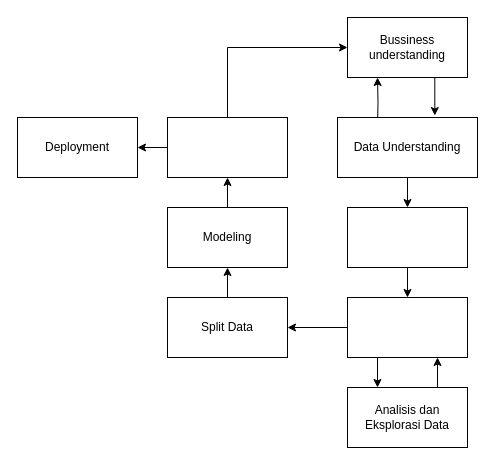
The diagram is 495 pixels wide and 465 high, and some of its shapes have lost their labels. Each missing label, with the centre of its shape:
Data Proccessing: (x=407, y=327)
Evaluasi: (x=227, y=147)
Fitur Selection: (x=407, y=237)
